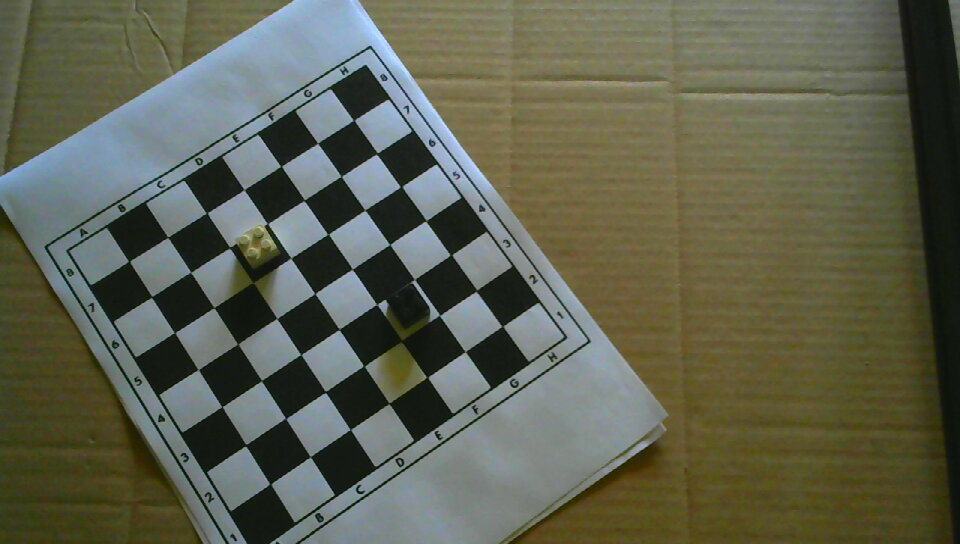bp: (386, 284, 431, 329)
wp: (235, 224, 280, 269)
